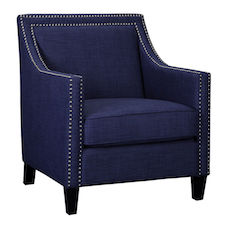chair: (1, 2, 217, 215)
